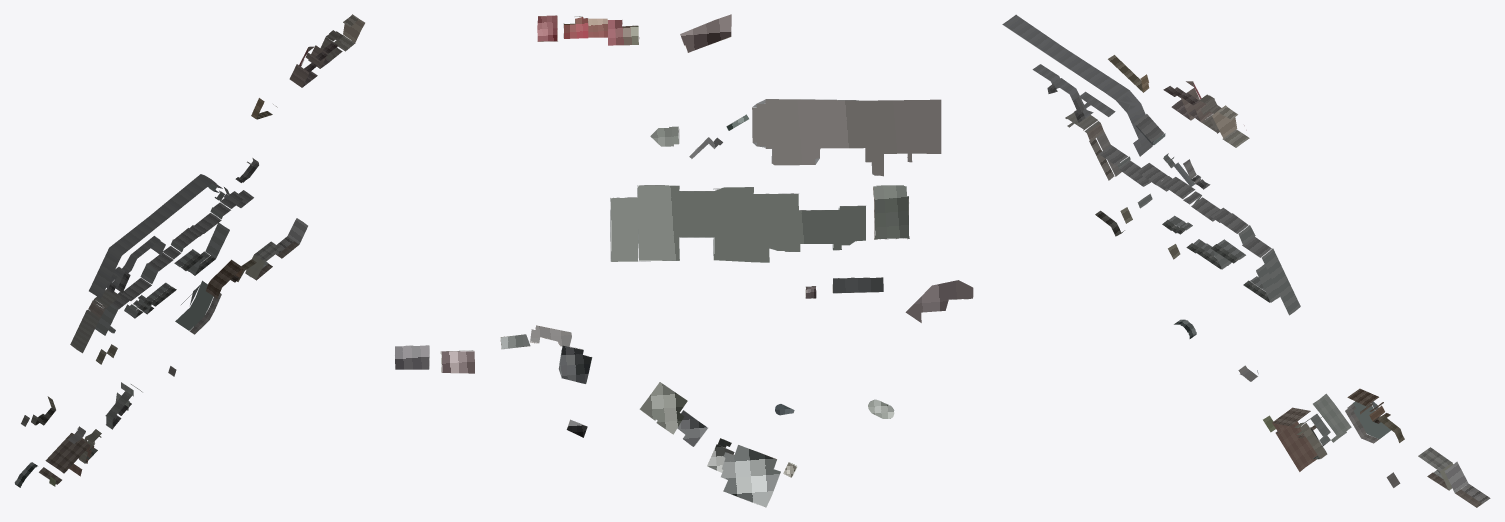
File: tile_LOD3_r7_c3.glb
3 renders of one model, left to right at view 1: azimuth 30°, elevation 25°; view 2: azimuth 150°, elevation 25°; view 3: azimuth 270°, elevation 25°, orthographic. The views are drawn at different scales.
Bounding box in the file's own units: 261 × 244 × 211.
Materials: 105 (105 with a texture image).
